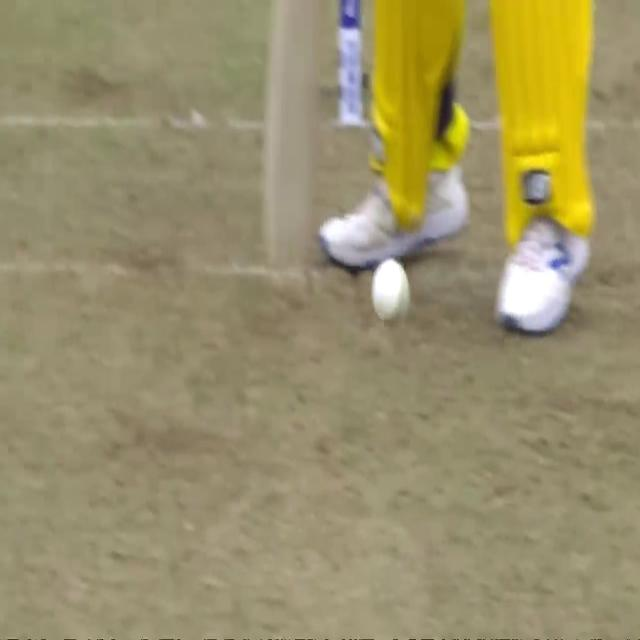ball: (364, 253, 420, 343)
